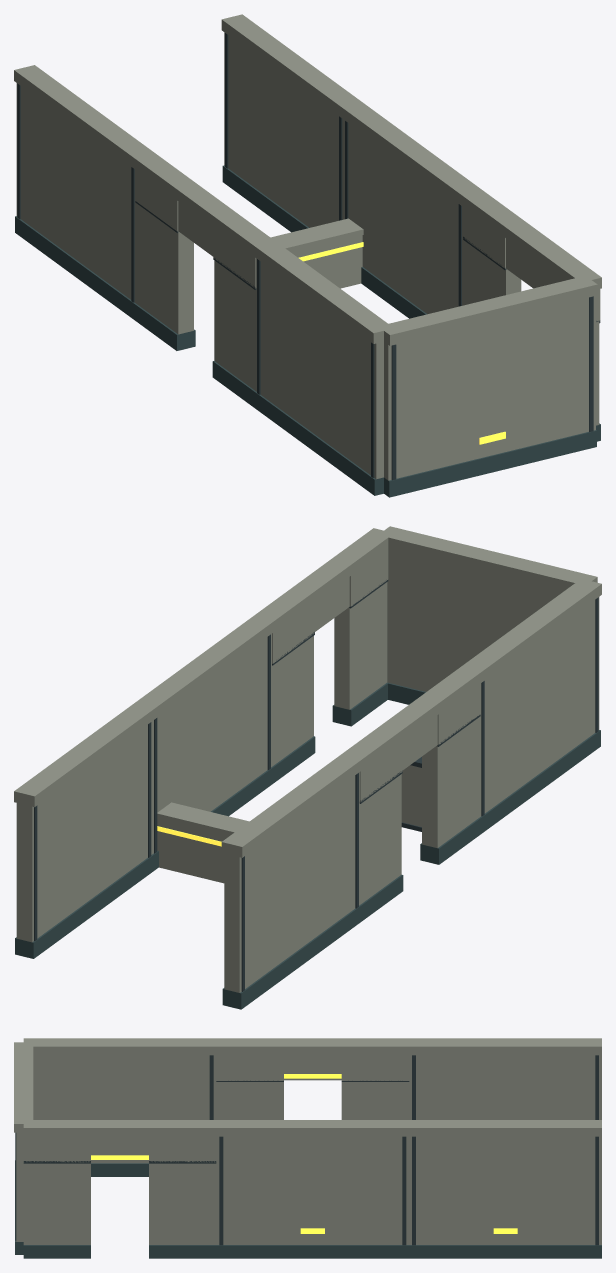
File: passage-cover.glb
3 views of the same model, one above another, from view 1: azimuth 30°, elevation 25°; view 2: azimuth 150°, elevation 25°; view 3: azimuth 270°, elevation 25° (orthographic). The views are drawn at different scales.
Visible parts, largest first — view 1: passage-cover; view 2: passage-cover; view 3: passage-cover.
Part boxes in pixels (left/top/right/bottom): passage-cover: left=14, top=14, right=601, bottom=497; passage-cover: left=14, top=526, right=601, bottom=1009; passage-cover: left=14, top=1038, right=601, bottom=1258.
Bounding box in the file's own units: 4.4 × 3 × 12.2.
